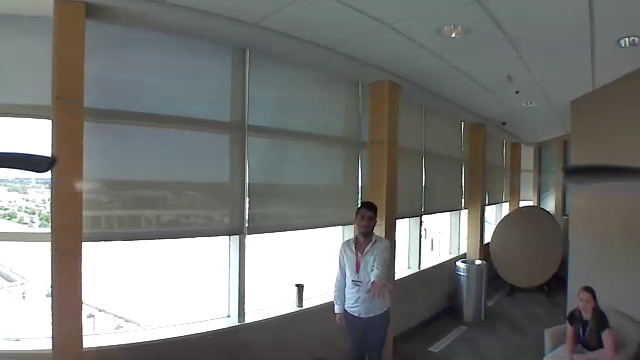land: (362, 274, 400, 307)
